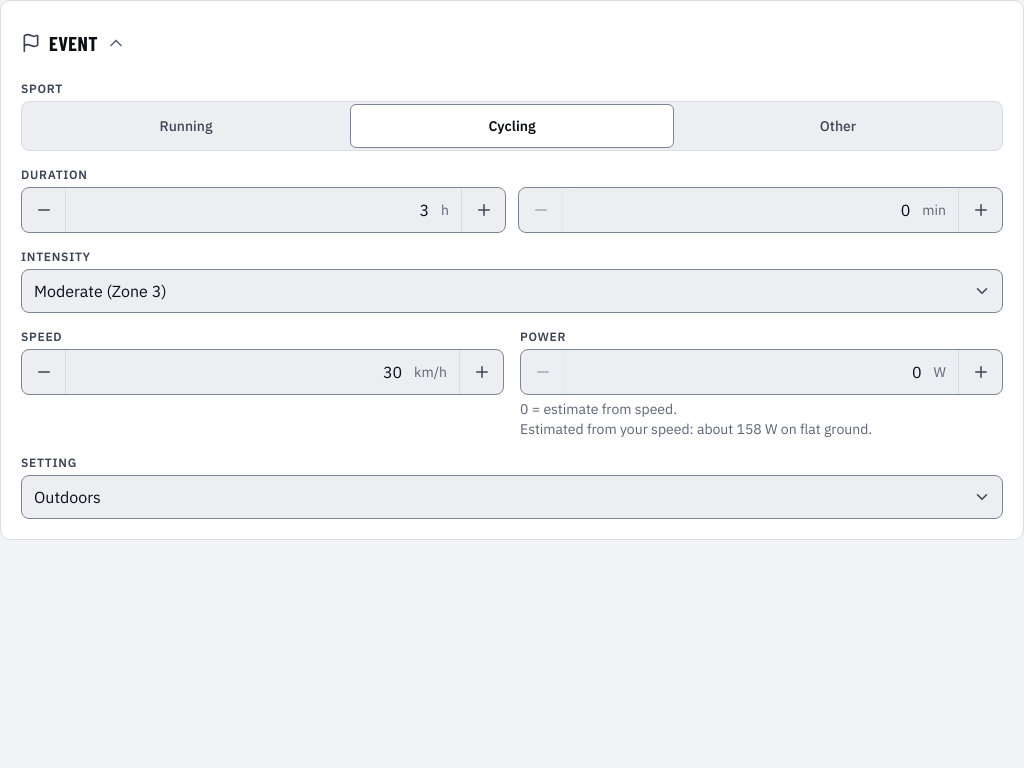
Test: EventSection: duration and intensity › keeps an empty field while typing and restores the stored value on blur
Clear the 1st number field named "Hours" at (254,210), box [66,188,441,232]
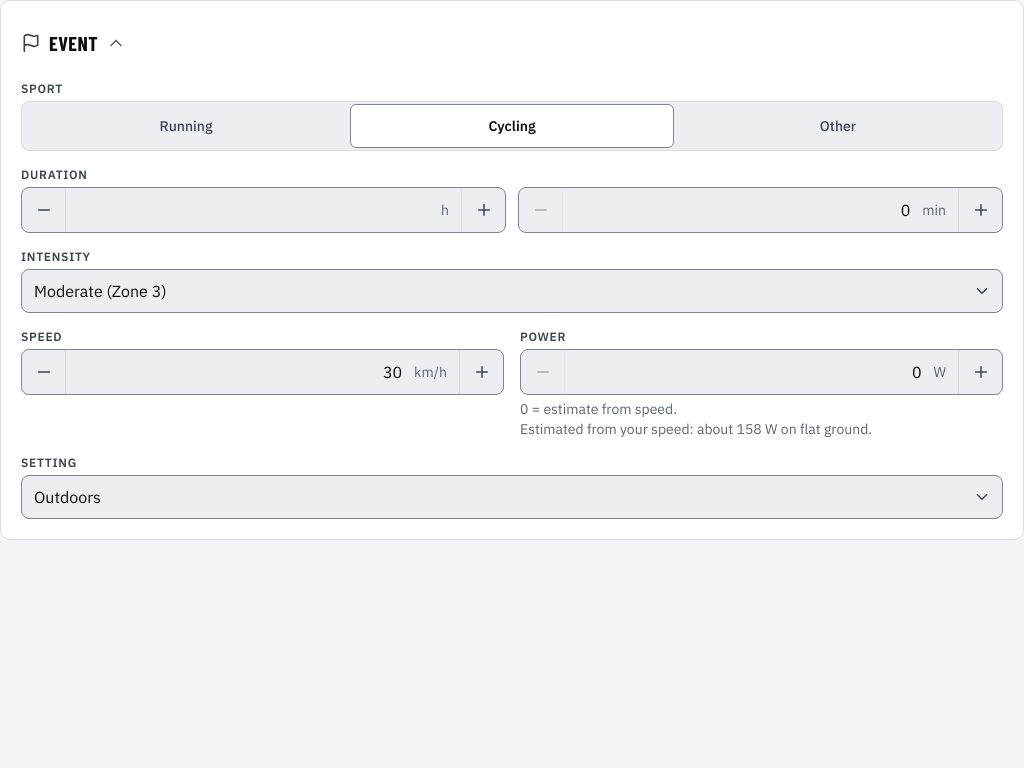
Leave the 1st number field named "Hours", box [66,188,441,232]
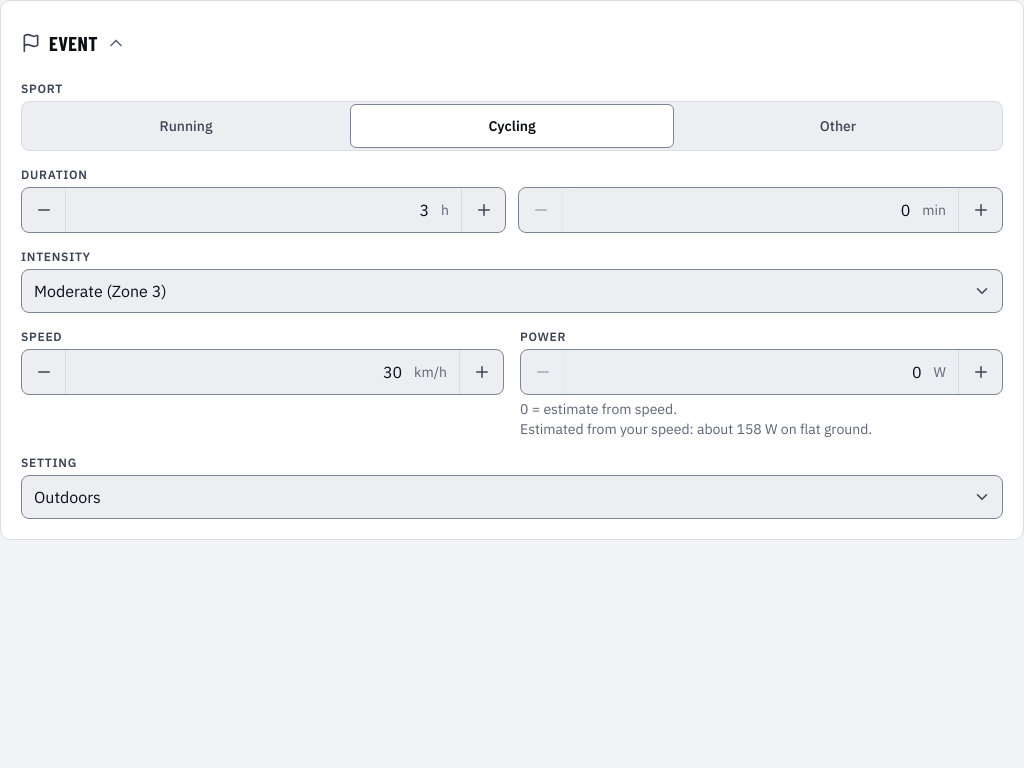
Now the 1st number field named "Hours" holds "3", box [66,188,441,232]
